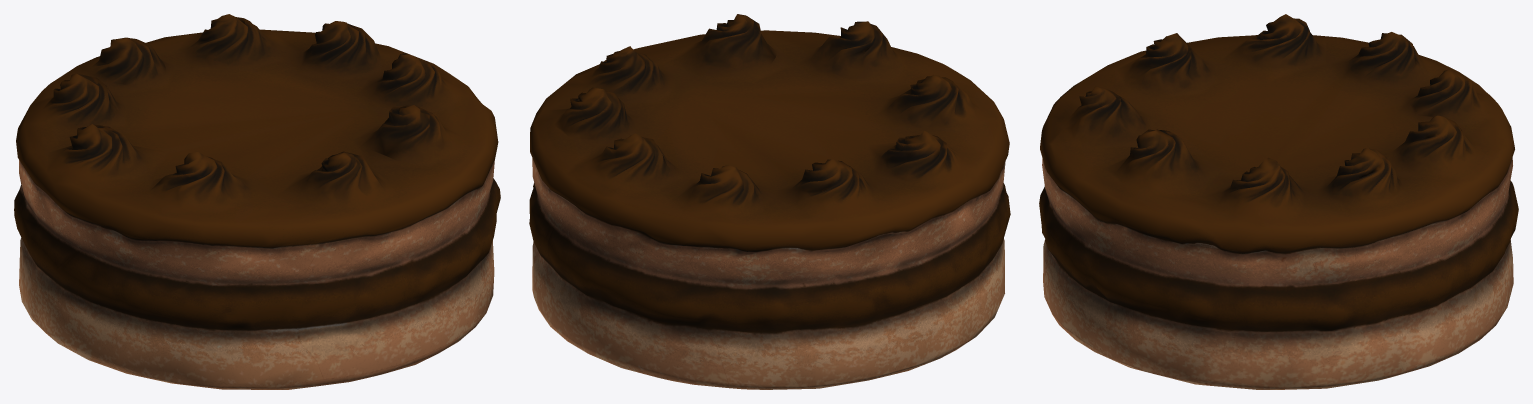
Rendered from s_cake_02.fbx.
3 views of the same model, side by side, from view 1: azimuth 30°, elevation 25°; view 2: azimuth 150°, elevation 25°; view 3: azimuth 270°, elevation 25° (orthographic).
Visible parts, largest first — view 1: s cake 02; view 2: s cake 02; view 3: s cake 02.
Boxes of the visible parts, <box> form: s cake 02: <box>14,14,500,389</box>; s cake 02: <box>529,14,1010,389</box>; s cake 02: <box>1039,14,1518,389</box>.
Bounding box in the file's own units: 79.08 × 38.49 × 79.36.
